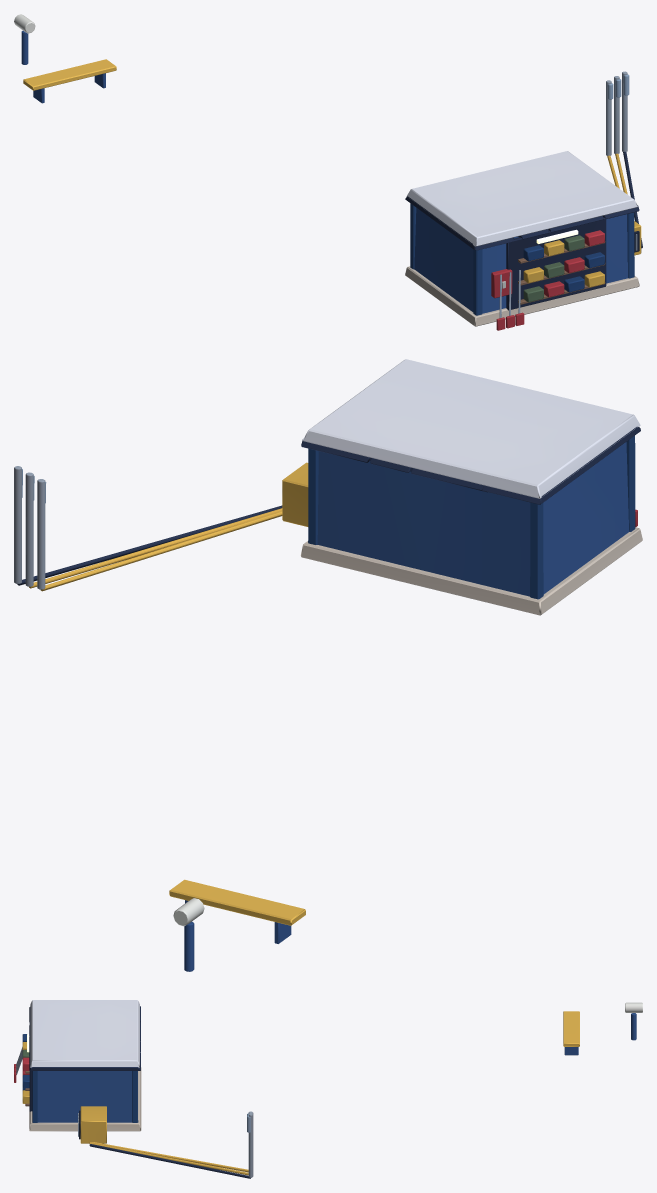
The model's file is snow_yard.glb.
3 renders of one model, top to bottom at view 1: azimuth 30°, elevation 25°; view 2: azimuth 150°, elevation 25°; view 3: azimuth 270°, elevation 25°, orthographic. The views are drawn at different scales.
Parts seen in each view (by area): view 1: snow_yard; view 2: snow_yard; view 3: snow_yard.
Boxes of the visible parts, <box> form: snow_yard: <box>14,14,642,330</box>; snow_yard: <box>14,359,642,971</box>; snow_yard: <box>14,1000,642,1178</box>.
Bounding box in the file's own units: 13.49 × 2.83 × 23.28.
